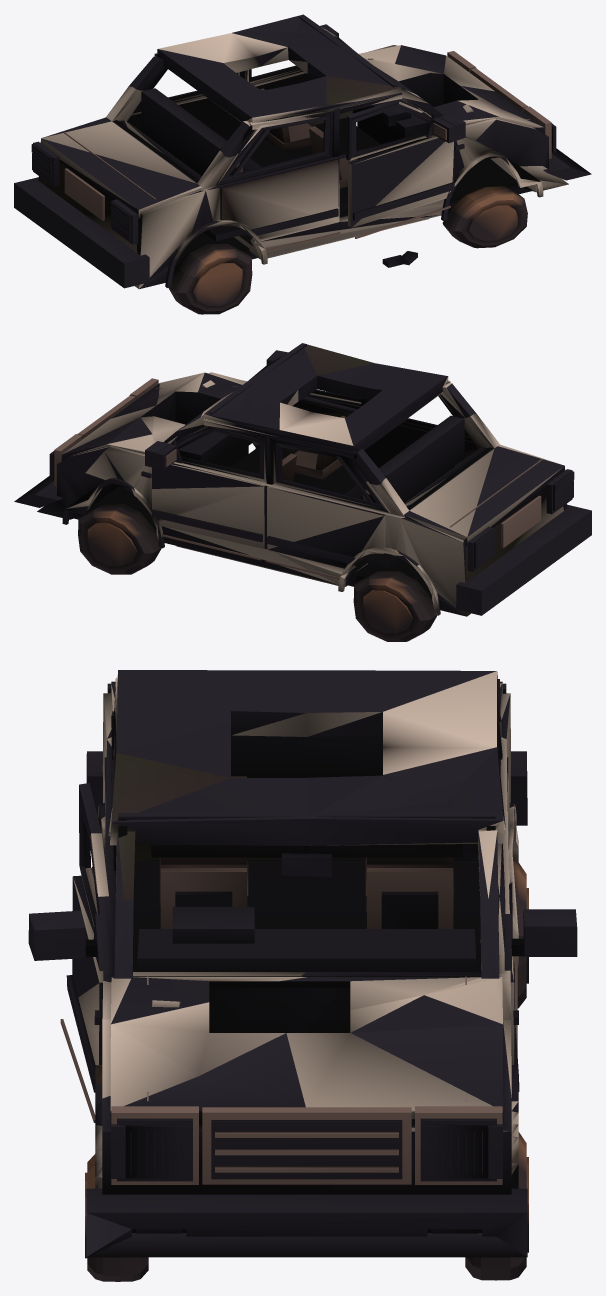
File: veh.sedan-white.burned.lod1.glb
3 views of the same model, one above another, from view 1: azimuth 30°, elevation 25°; view 2: azimuth 150°, elevation 25°; view 3: azimuth 270°, elevation 25° (orthographic). The views are drawn at different scales.
Parts seen in each view (by area): view 1: body, wheelRL, wheelFL; view 2: body, wheelRR, wheelFR; view 3: body, wheelFR, wheelFL, wheelRR.
Boxes of the visible parts, x1=… form: body: x1=14, y1=14, x2=591, y2=289; wheelRL: x1=168, y1=243, x2=252, y2=314; wheelFL: x1=442, y1=186, x2=527, y2=248; body: x1=14, y1=343, x2=591, y2=616; wheelRR: x1=353, y1=570, x2=437, y2=641; wheelFR: x1=78, y1=503, x2=161, y2=574; body: x1=28, y1=670, x2=577, y2=1257; wheelFR: x1=465, y1=1132, x2=528, y2=1280; wheelFL: x1=85, y1=1154, x2=148, y2=1281; wheelRR: x1=477, y1=860, x2=528, y2=1009.
Size of the model in its own units: 4.75 by 1.79 by 2.41.
